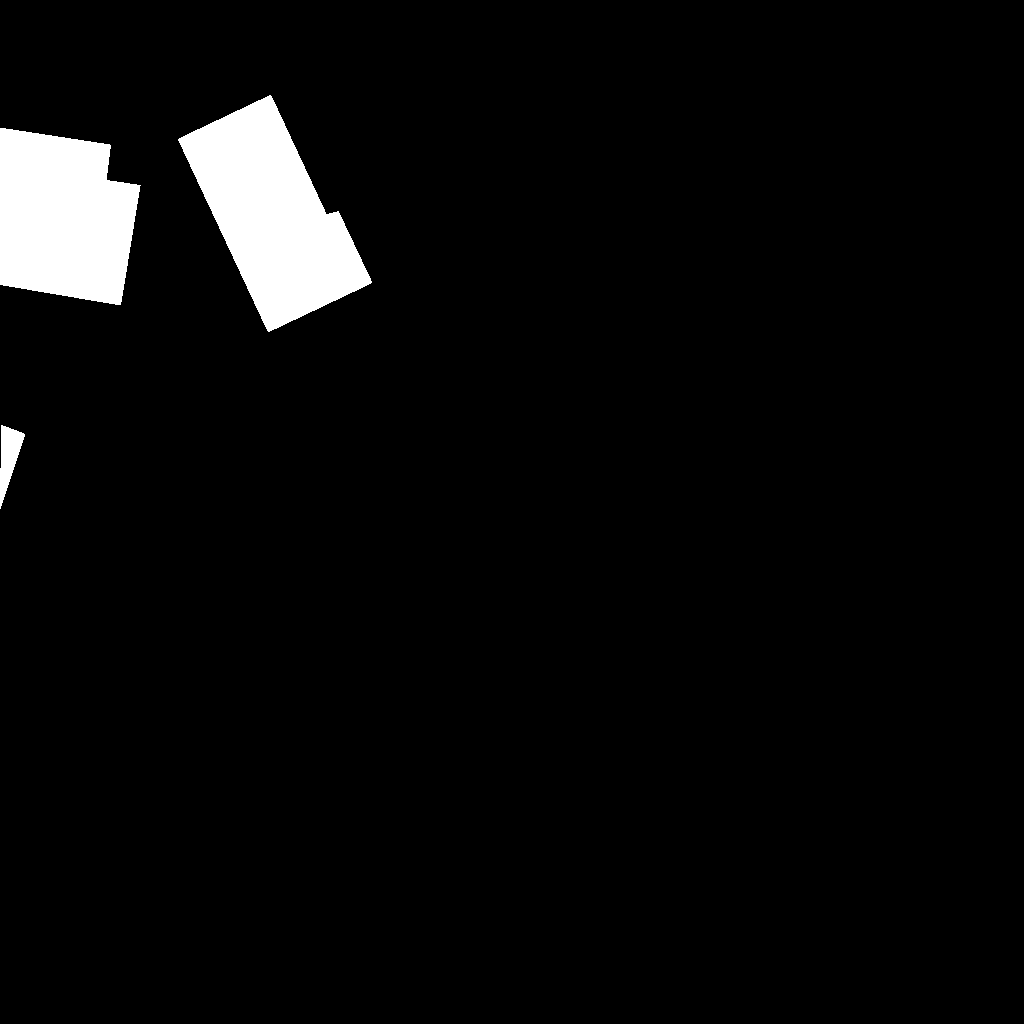building: (178, 95, 373, 333), (0, 128, 141, 306), (0, 425, 26, 511)
